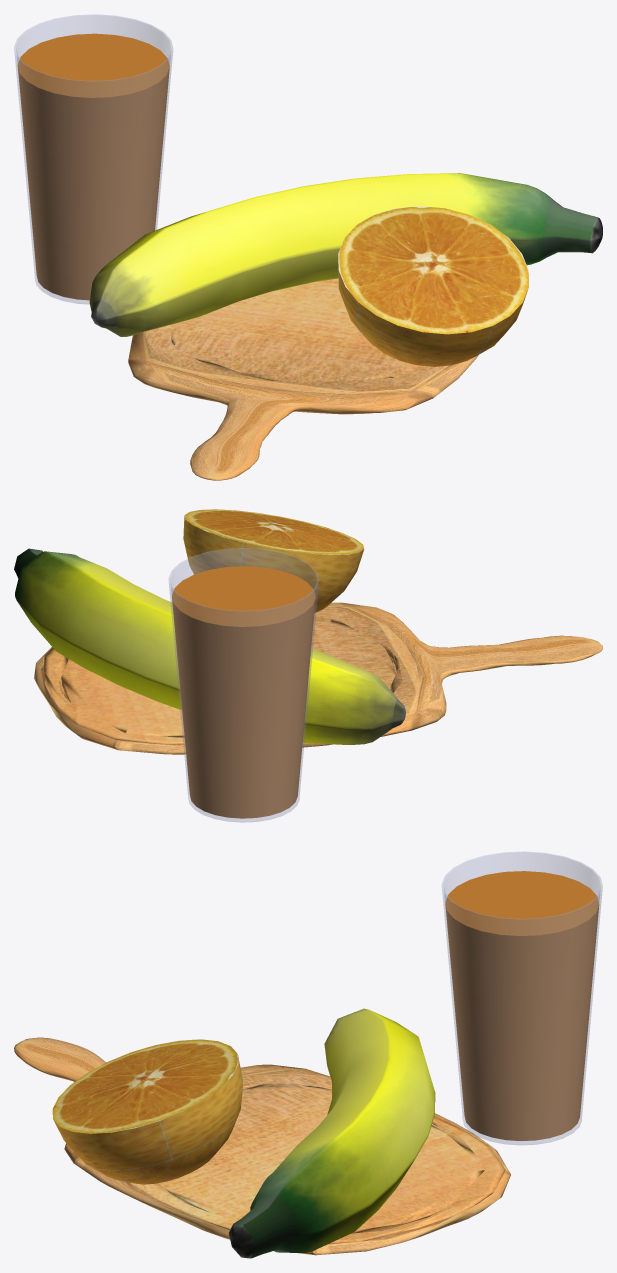
The model's file is healthy-food.glb.
3 views of the same model, one above another, from view 1: azimuth 30°, elevation 25°; view 2: azimuth 150°, elevation 25°; view 3: azimuth 270°, elevation 25° (orthographic). The views are drawn at different scales.
Visible parts, largest first — view 1: Banana.001, Juice.001, Table.001, Glass, Orange.001; view 2: Juice.001, Glass, Banana.001, Table.001, Orange.001; view 3: Juice.001, Glass, Table.001, Banana.001, Orange.001.
Boxes of the visible parts, x1,y1,x2,y2 form: Banana.001: [89, 173, 602, 336]; Juice.001: [17, 33, 169, 300]; Table.001: [128, 278, 478, 480]; Glass: [14, 14, 172, 304]; Orange.001: [338, 206, 528, 366]; Juice.001: [172, 566, 315, 818]; Glass: [168, 548, 318, 822]; Banana.001: [14, 548, 405, 744]; Table.001: [34, 602, 602, 754]; Orange.001: [183, 509, 364, 613]; Juice.001: [445, 871, 599, 1140]; Glass: [442, 851, 602, 1144]; Table.001: [14, 1037, 510, 1255]; Banana.001: [228, 1008, 435, 1258]; Orange.001: [52, 1039, 242, 1184].
Bounding box in the file's own units: 13.59 × 5.89 × 13.38.
Materials: 5 (3 with a texture image).
